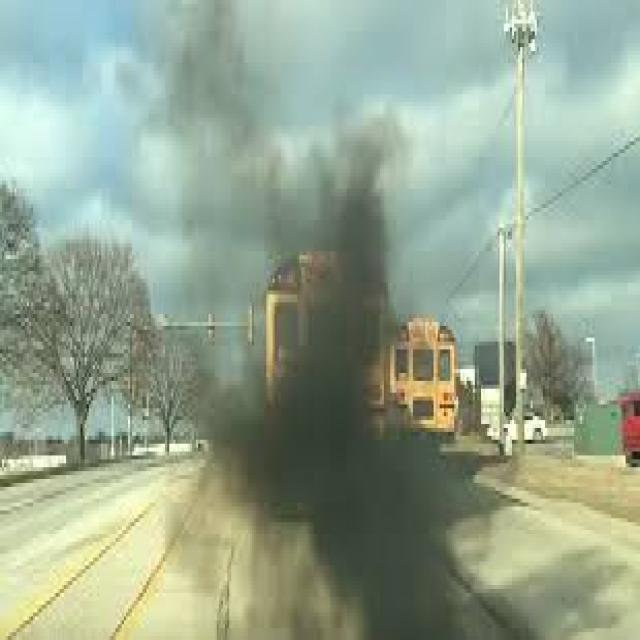Smoke: (126, 0, 490, 640)
